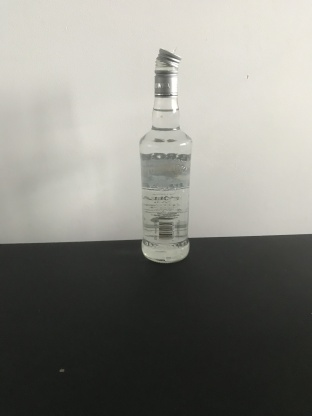nakretka: (152, 45, 182, 99)
